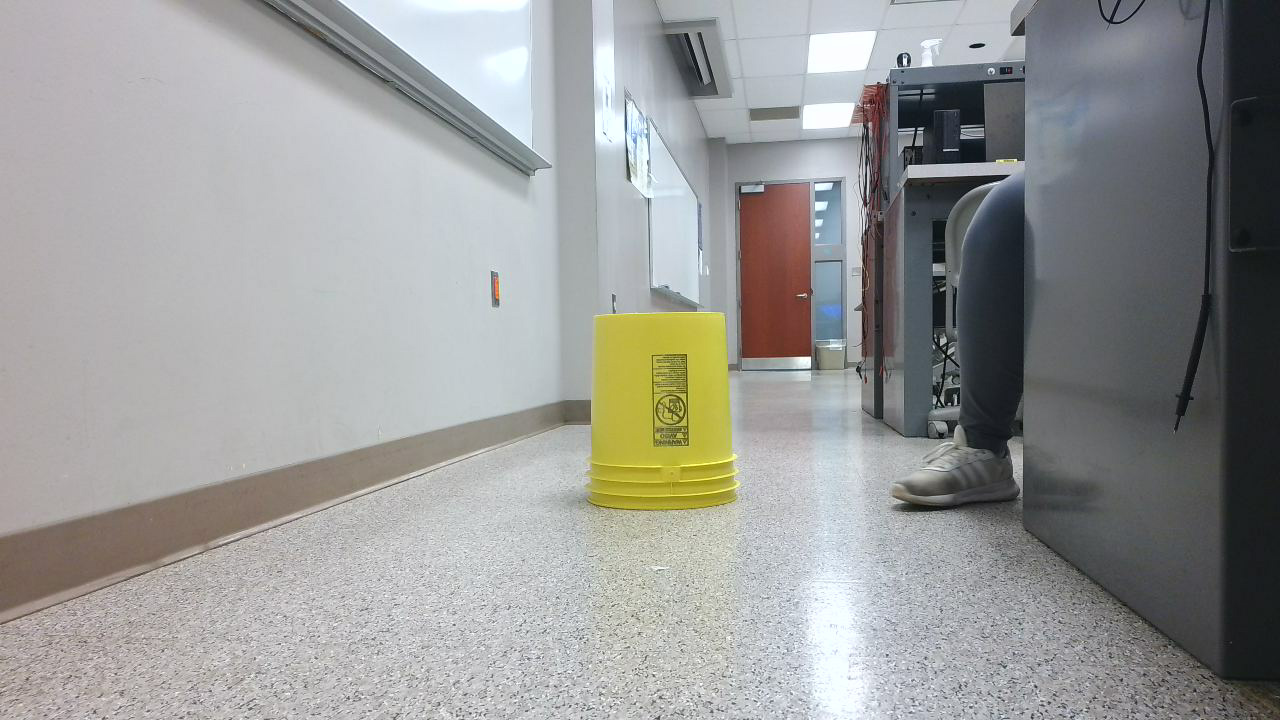yellow_bucket: (586, 314, 749, 519)
